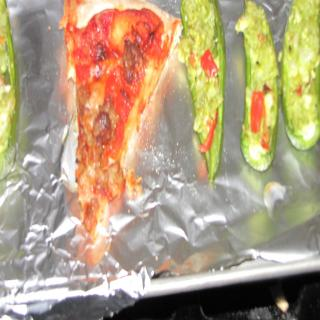Pizza: (65, 0, 178, 241)
